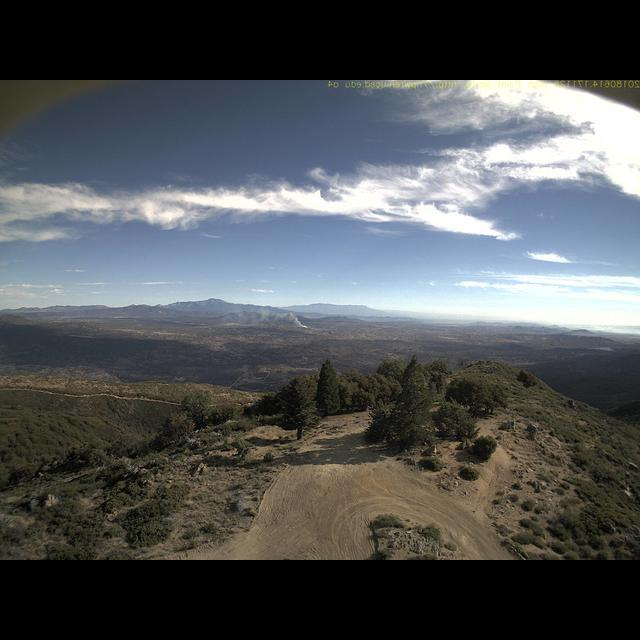Smoke: (221, 302, 315, 331)
